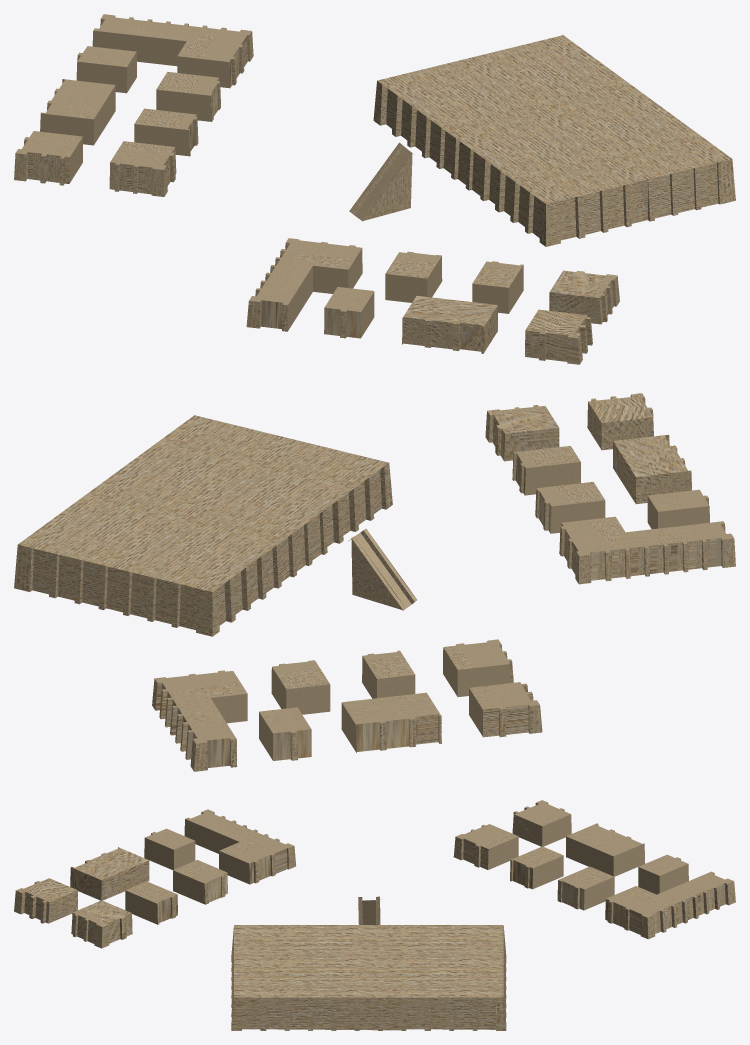
File: Sumeria_TownCenter_onConstruction.fbx
3 views of the same model, one above another, from view 1: azimuth 30°, elevation 25°; view 2: azimuth 150°, elevation 25°; view 3: azimuth 270°, elevation 25° (orthographic). The views are drawn at different scales.
Parts seen in each view (by area): view 1: base1_001, base1_002, base1_003, Cube_002; view 2: base1_001, base1_003, base1_002, Cube_002; view 3: base1_001, base1_002, base1_003, Cube_002.
Boxes of the visible parts, x1=… form: base1_001: x1=373, y1=35, x2=735, y2=246; base1_002: x1=14, y1=14, x2=253, y2=196; base1_003: x1=246, y1=238, x2=619, y2=364; Cube_002: x1=349, y1=142, x2=412, y2=221; base1_001: x1=14, y1=415, x2=392, y2=636; base1_003: x1=485, y1=393, x2=735, y2=584; base1_002: x1=152, y1=639, x2=542, y2=771; Cube_002: x1=348, y1=528, x2=416, y2=610; base1_001: x1=231, y1=925, x2=506, y2=1030; base1_002: x1=453, y1=800, x2=735, y2=939; base1_003: x1=14, y1=809, x2=296, y2=948; Cube_002: x1=358, y1=896, x2=381, y2=924.
Bounding box in the file's own units: 11.25 × 1.22 × 16.72.
Materials: 1 (1 with a texture image).
